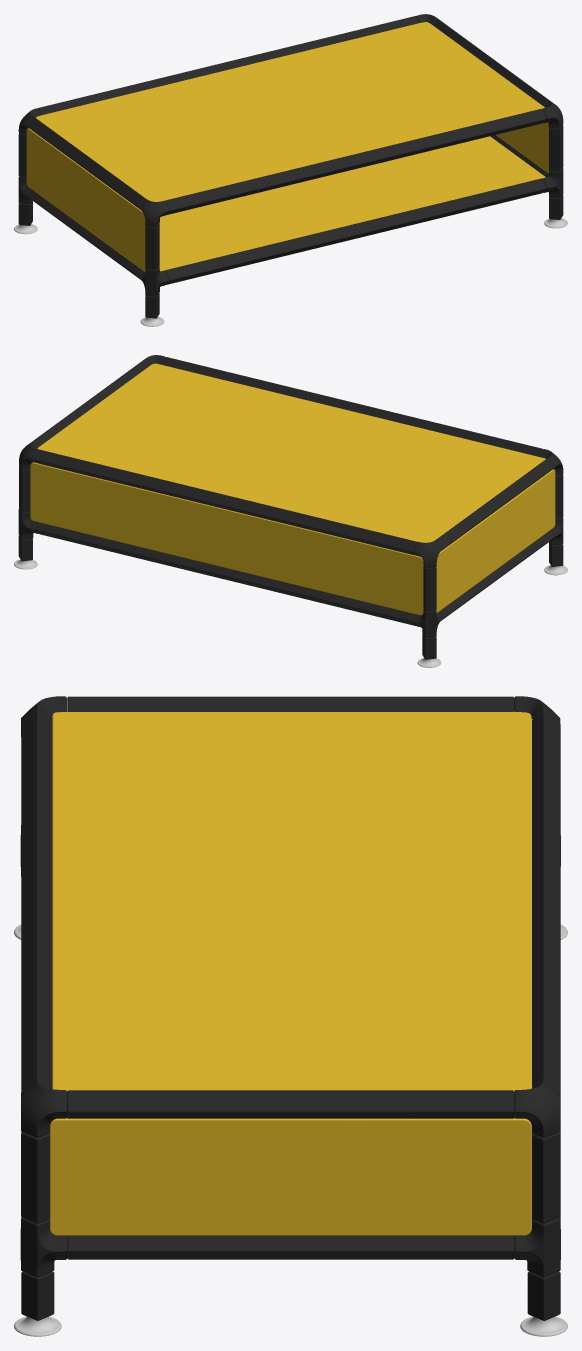
The picture shows the model from 3 angles, top to bottom: view 1: azimuth 30°, elevation 25°; view 2: azimuth 150°, elevation 25°; view 3: azimuth 270°, elevation 25°; orthographic projection. The views are drawn at different scales.
Visible parts, largest first — view 1: 729x374x79; view 2: 729x374x79; view 3: 729x374x79.
Part boxes in pixels (x1,y1,x2,y2): 729x374x79: [14, 14, 567, 326]; 729x374x79: [14, 355, 567, 667]; 729x374x79: [14, 696, 567, 1336].
Size of the model in its own units: 0.8189 by 0.2183 by 0.4632.
